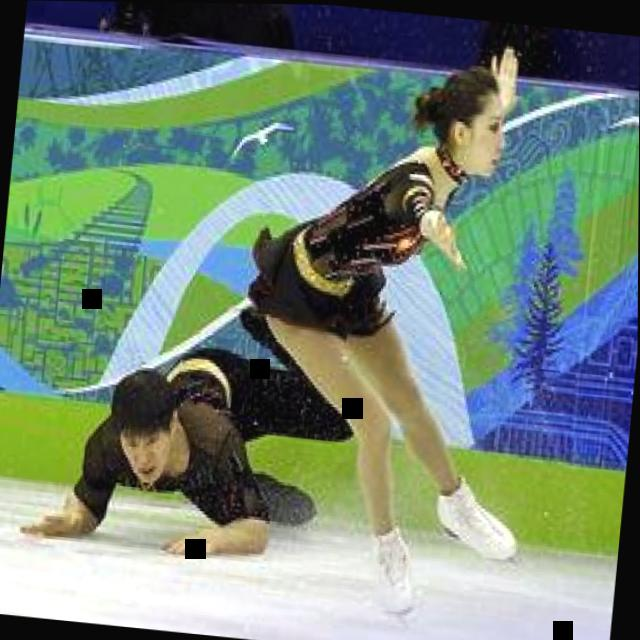Fall-Detected: (0, 315, 346, 572)
